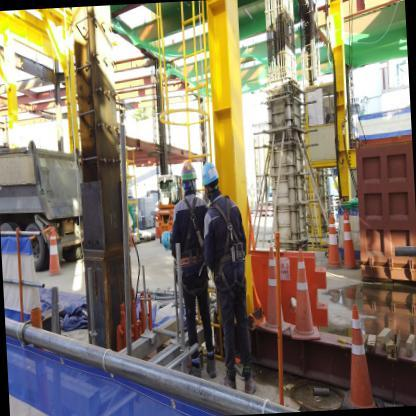safety-shoe: (242, 374, 259, 398), (218, 373, 239, 391), (204, 354, 219, 379)
